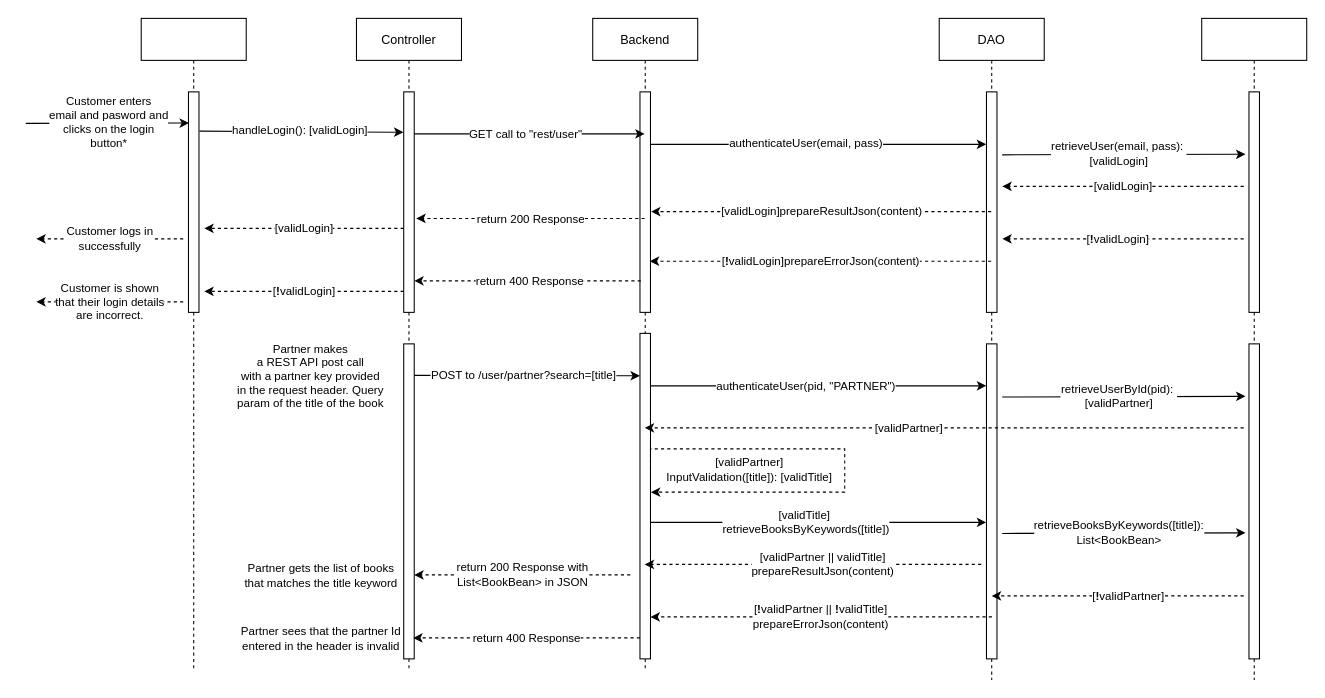
The diagram is 1325 pixels wide and 698 high, and some of its shapes have lost their labels. Each missing label, with the centre of its shape:
"Database" belongs at (x=1254, y=348).
"UI" belongs at (x=193, y=343).
